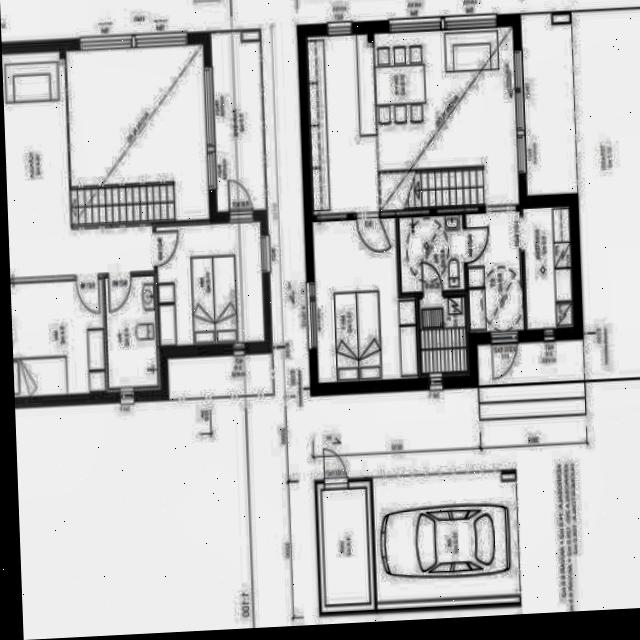room: (312, 218, 418, 382), (465, 207, 575, 332), (155, 223, 265, 345), (9, 281, 107, 396), (105, 276, 158, 387), (399, 215, 465, 292), (419, 296, 467, 372)
